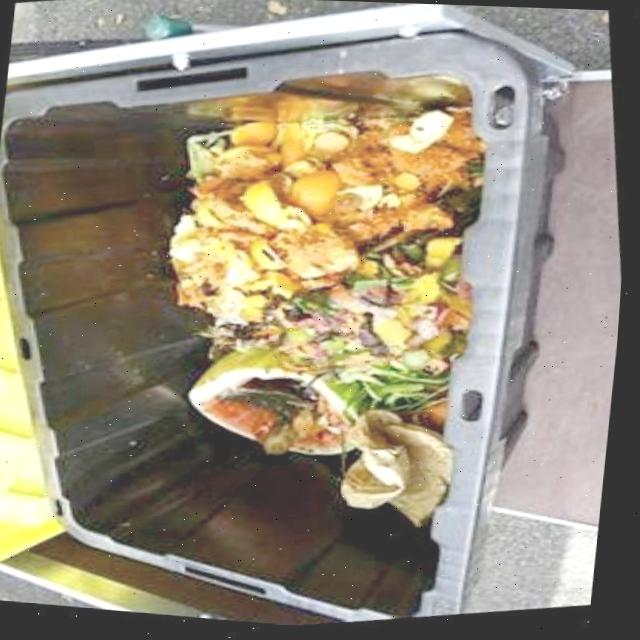Garbage: (171, 79, 486, 526)
